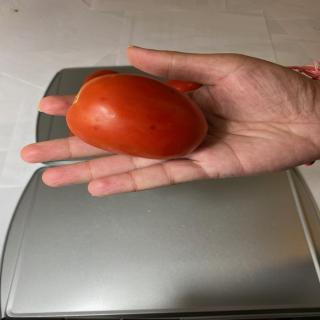Chilli: (65, 72, 208, 160)
Tomato: (83, 69, 119, 85)
